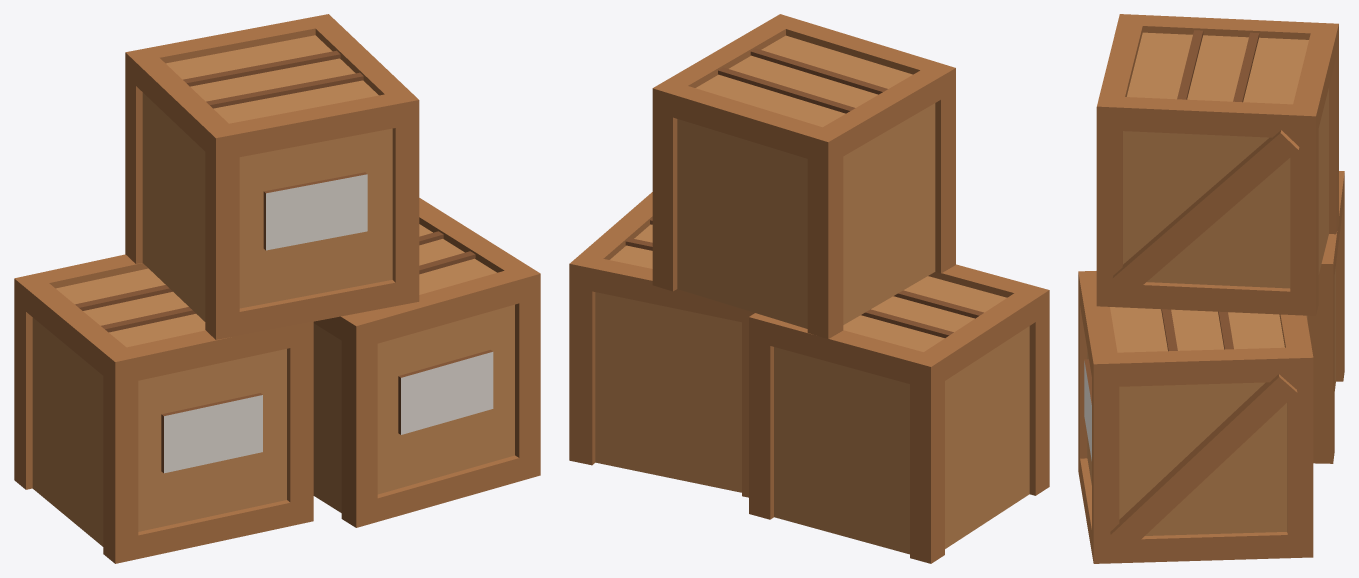
File: food_box_stack.glb
3 views of the same model, side by side, from view 1: azimuth 30°, elevation 25°; view 2: azimuth 150°, elevation 25°; view 3: azimuth 270°, elevation 25° (orthographic). The views are drawn at different scales.
Parts seen in each view (by area): view 1: food_box_stack; view 2: food_box_stack; view 3: food_box_stack.
Boxes of the visible parts, <box> form: food_box_stack: <box>14,14,540,563</box>; food_box_stack: <box>569,14,1049,563</box>; food_box_stack: <box>1078,14,1344,563</box>.
Bounding box in the file's own units: 1.29 × 1.2 × 0.7255.
1 material, 1 textured.
